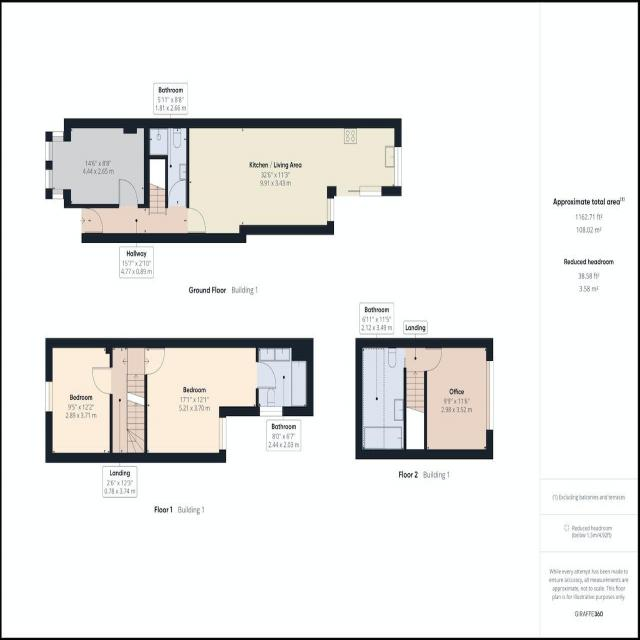DOOR: (143, 346, 166, 377), (91, 365, 113, 396), (81, 206, 104, 235), (255, 361, 277, 390), (186, 206, 207, 236), (118, 178, 139, 208), (167, 179, 187, 208), (424, 347, 443, 373)
ROOM: (186, 118, 402, 244), (144, 338, 277, 463), (45, 118, 150, 209), (45, 338, 113, 463)
WINDOW: (485, 359, 495, 434), (45, 130, 64, 162), (45, 169, 64, 200), (394, 146, 402, 188), (219, 416, 227, 451), (359, 185, 382, 197), (45, 380, 53, 414), (259, 406, 283, 417), (326, 197, 335, 223)
